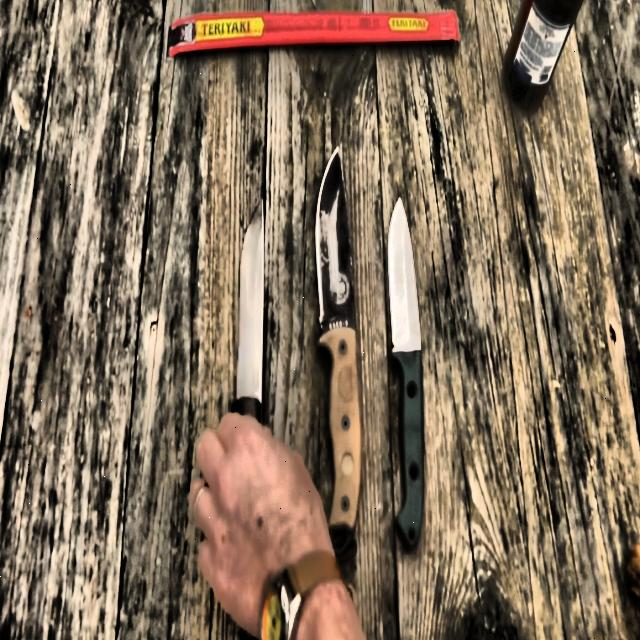knife: (316, 149, 364, 536), (388, 197, 424, 556), (231, 198, 266, 423)
